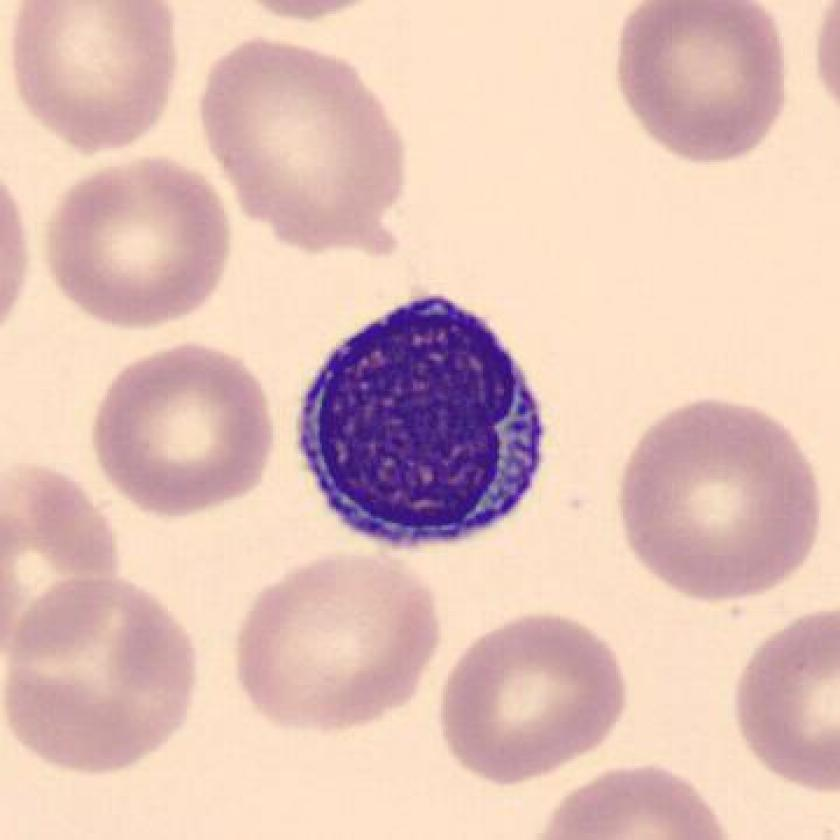lymphocyte: (284, 286, 564, 552)
